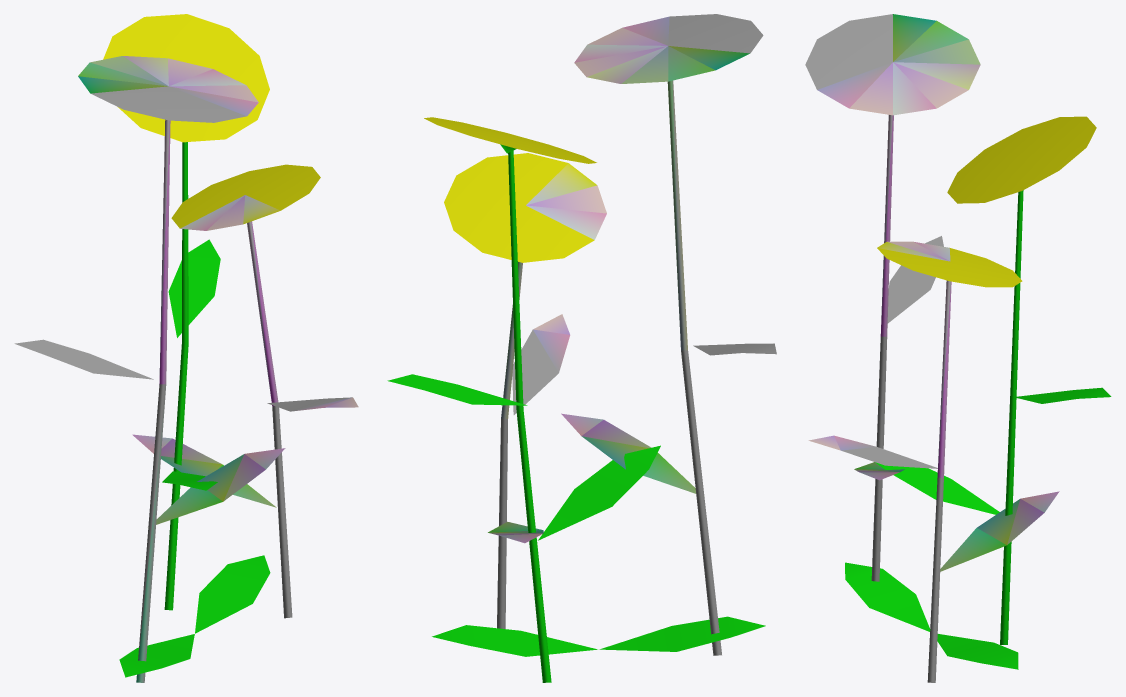
Rendered from DaisyWeeds_Painted.fbx.
3 views of the same model, side by side, from view 1: azimuth 30°, elevation 25°; view 2: azimuth 150°, elevation 25°; view 3: azimuth 270°, elevation 25° (orthographic). The views are drawn at different scales.
Parts seen in each view (by area): view 1: daisyWeeds; view 2: daisyWeeds; view 3: daisyWeeds.
Boxes of the visible parts, x1=… form: daisyWeeds: x1=14, y1=14, x2=358, y2=682; daisyWeeds: x1=387, y1=14, x2=776, y2=682; daisyWeeds: x1=805, y1=14, x2=1111, y2=682.
Bounding box in the file's own units: 0.6478 × 1.21 × 0.5938.
